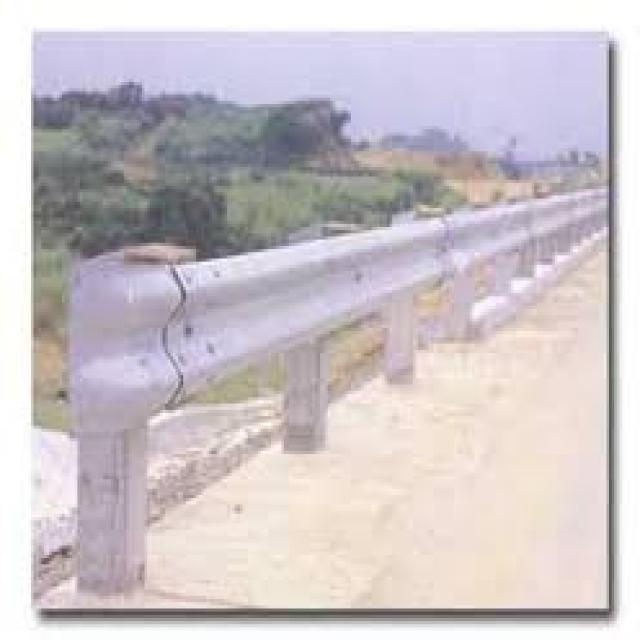Guard rail: (68, 185, 607, 435)
